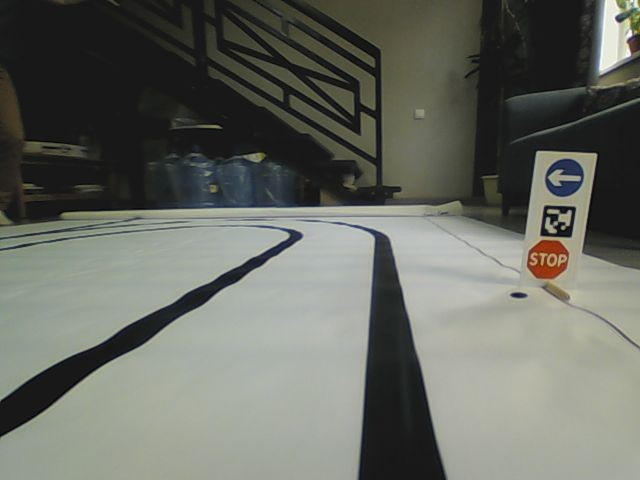Stop: (526, 240, 569, 279)
